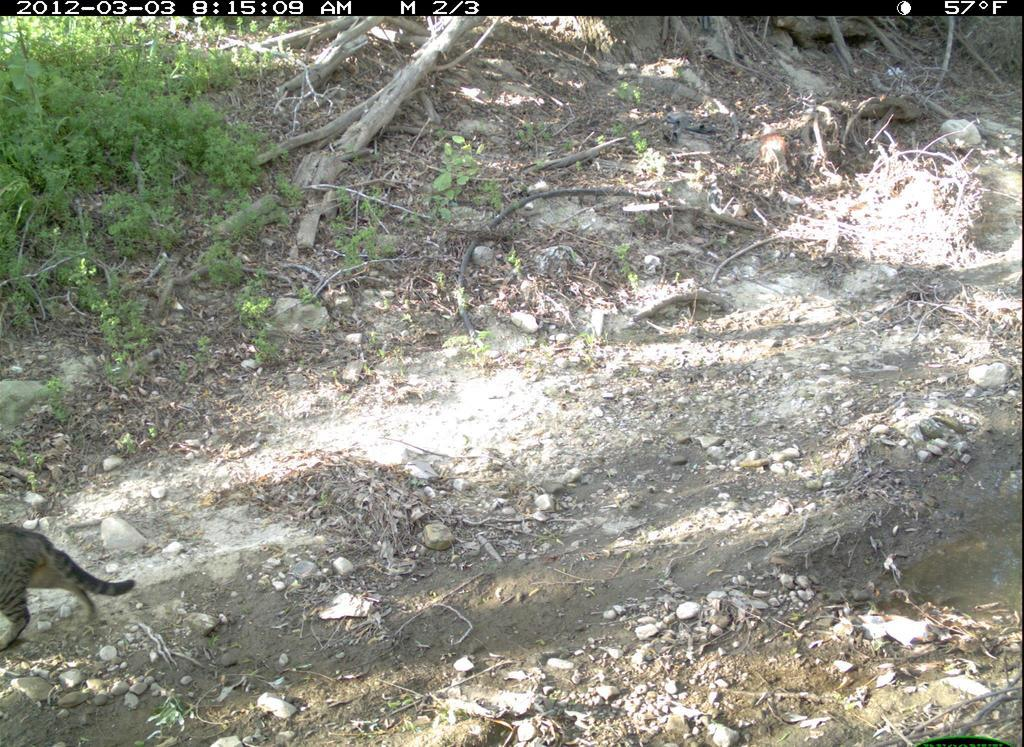cat: (1, 507, 146, 666)
